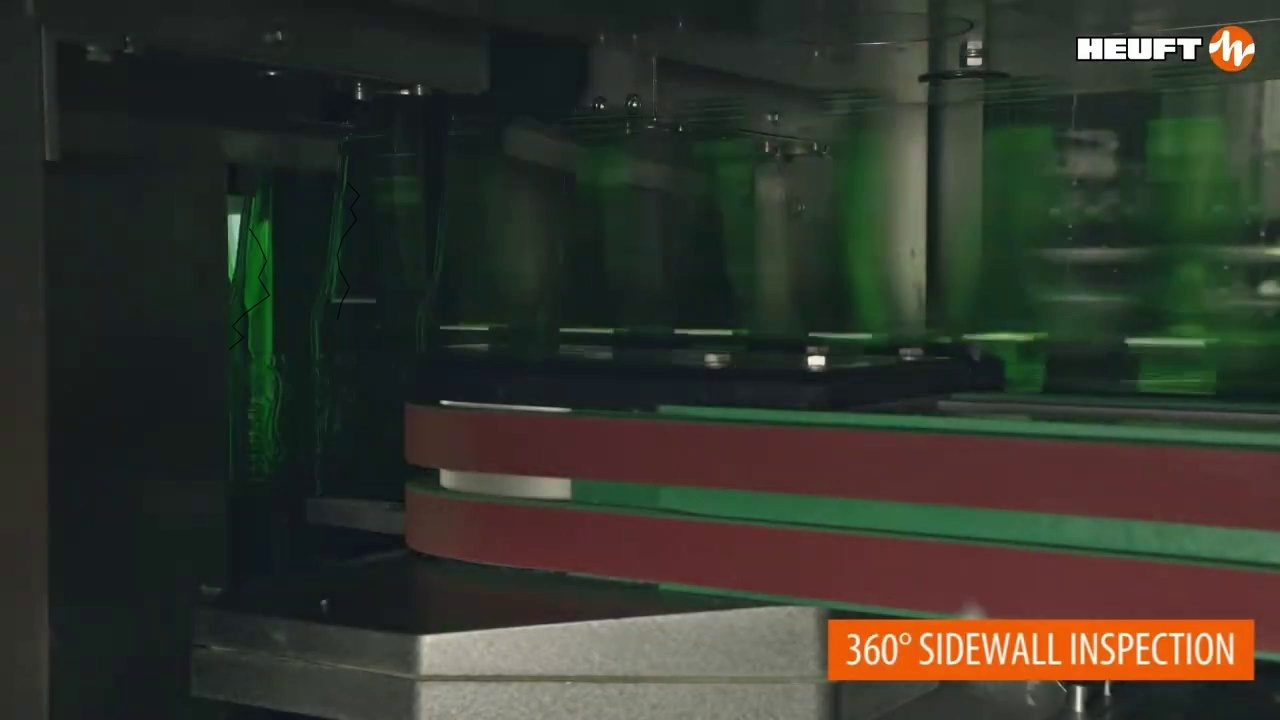bottle: (22, 137, 348, 328), (311, 135, 432, 494)
crack: (229, 228, 269, 349)
